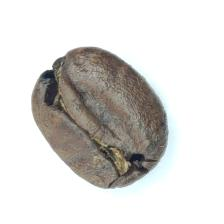NG: (44, 64, 148, 177)
